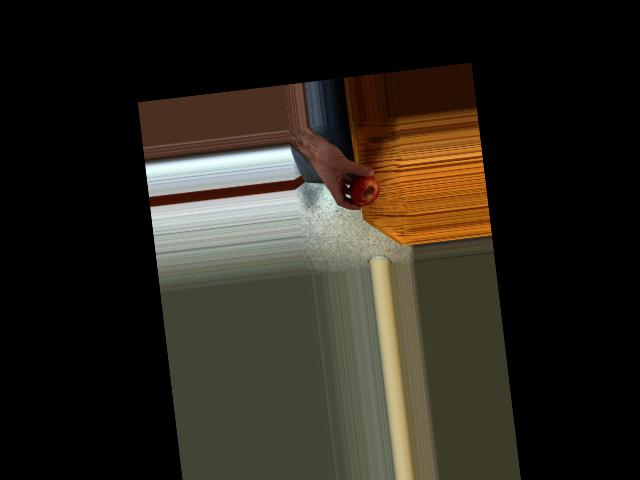apple: (344, 170, 380, 208)
